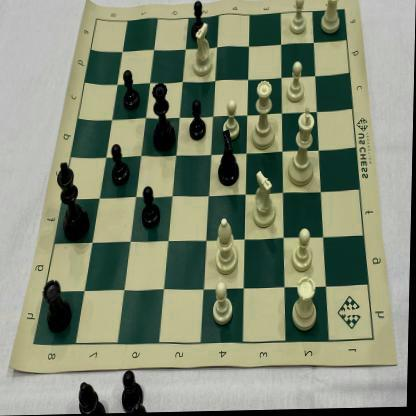black-king: (55, 158, 94, 245)
black-knight: (215, 129, 243, 188)
black-pawn: (140, 184, 164, 230), (109, 142, 132, 188), (121, 68, 142, 115), (188, 99, 210, 143), (190, 0, 206, 41)
black-queen: (150, 80, 178, 154)
black-rook: (42, 271, 76, 338)
white-bishop: (214, 215, 240, 277)
white-king: (287, 105, 320, 188)
white-knight: (251, 168, 279, 230), (192, 22, 214, 79)
white-pawn: (212, 280, 238, 327), (291, 228, 316, 274), (286, 61, 308, 106), (222, 98, 242, 140), (288, 0, 309, 37)
white-queen: (251, 77, 277, 154)
white-rook: (289, 276, 323, 335), (319, 0, 342, 37)
